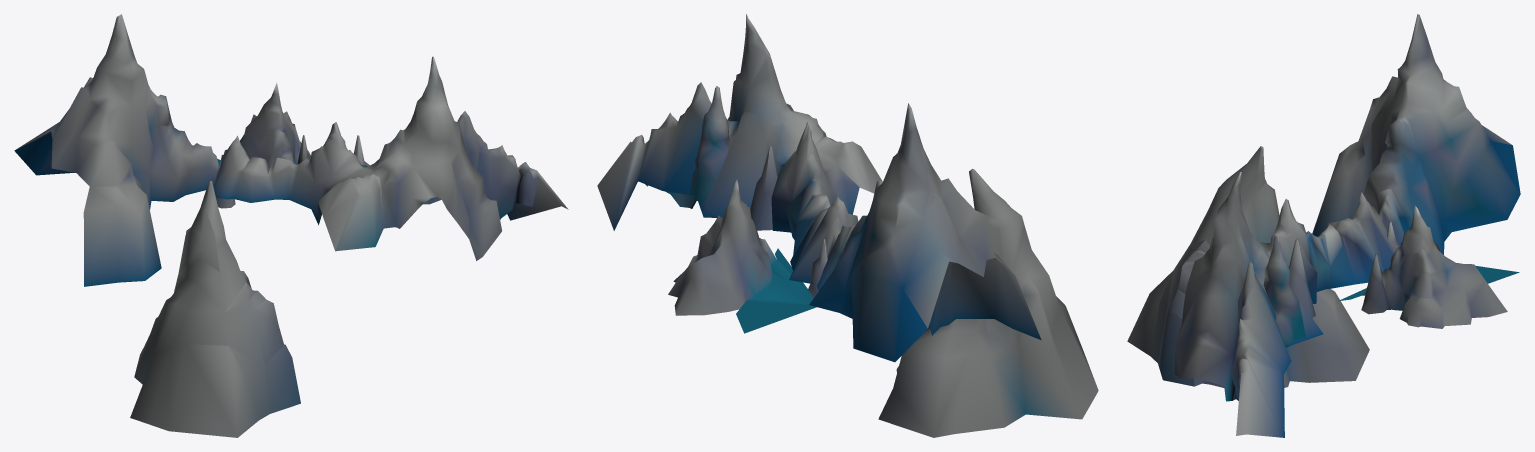
3 views of the same model, side by side, from view 1: azimuth 30°, elevation 25°; view 2: azimuth 150°, elevation 25°; view 3: azimuth 270°, elevation 25° (orthographic). The views are drawn at different scales.
Visible parts, largest first — view 1: G:\FFXIV-MapTools\exports\w1f5\bg\ffxiv\wil_w1\fld\w1f5\bgpa; view 2: G:\FFXIV-MapTools\exports\w1f5\bg\ffxiv\wil_w1\fld\w1f5\bgpa; view 3: G:\FFXIV-MapTools\exports\w1f5\bg\ffxiv\wil_w1\fld\w1f5\bgpa.
Boxes of the visible parts, box(x1,y1,x2,y2) form: G:\FFXIV-MapTools\exports\w1f5\bg\ffxiv\wil_w1\fld\w1f5\bgpa: box(14, 14, 568, 437); G:\FFXIV-MapTools\exports\w1f5\bg\ffxiv\wil_w1\fld\w1f5\bgpa: box(597, 14, 1098, 437); G:\FFXIV-MapTools\exports\w1f5\bg\ffxiv\wil_w1\fld\w1f5\bgpa: box(1127, 14, 1520, 437).
Size of the model in its own units: 295 by 209 by 215.
